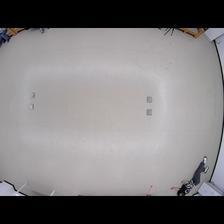fall: (169, 155, 211, 196)
